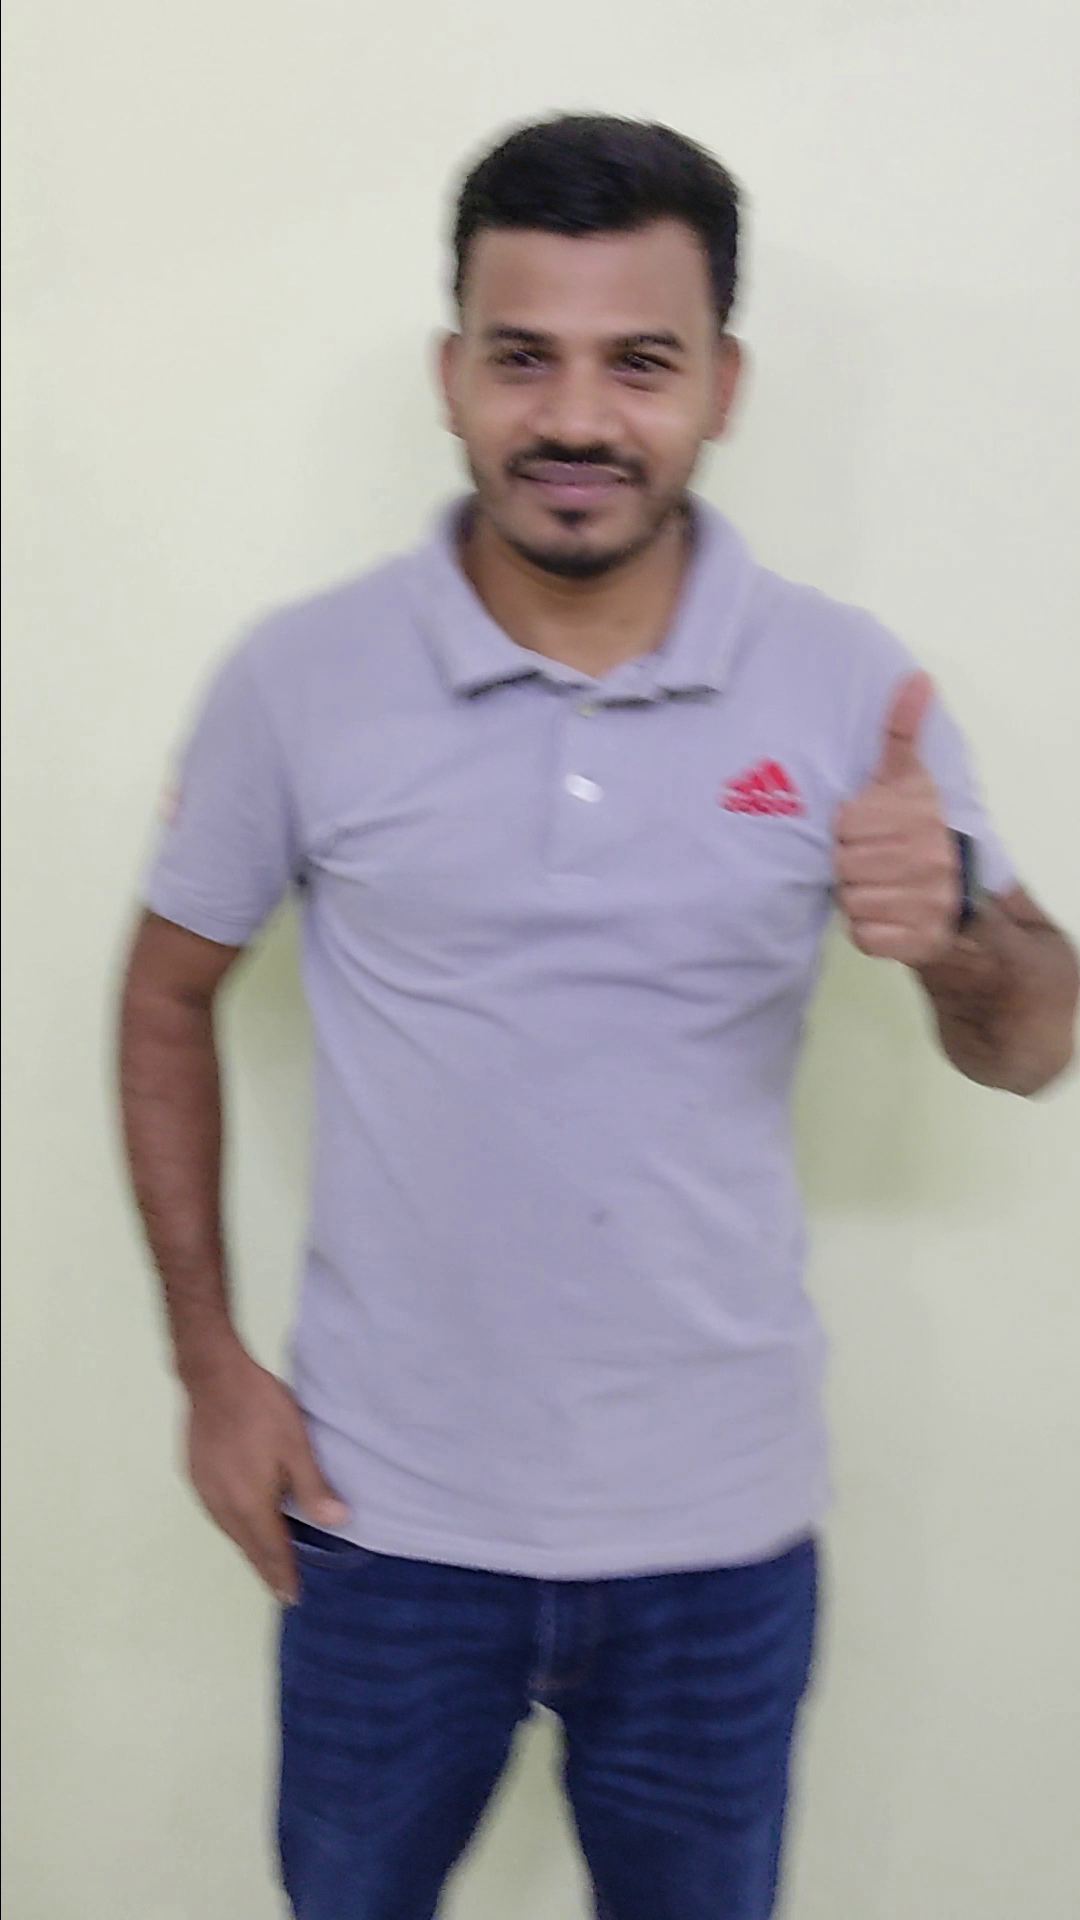Like: (789, 654, 1004, 978)
None: (150, 1332, 361, 1623)
